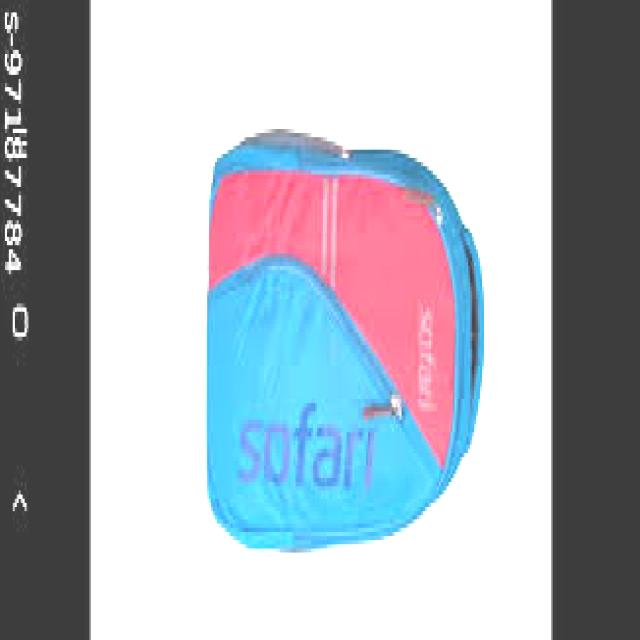backpack: (208, 126, 488, 554)
